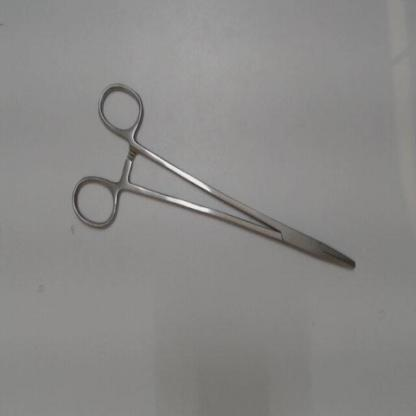8 Mayo Needle Holder: (62, 72, 364, 284)
